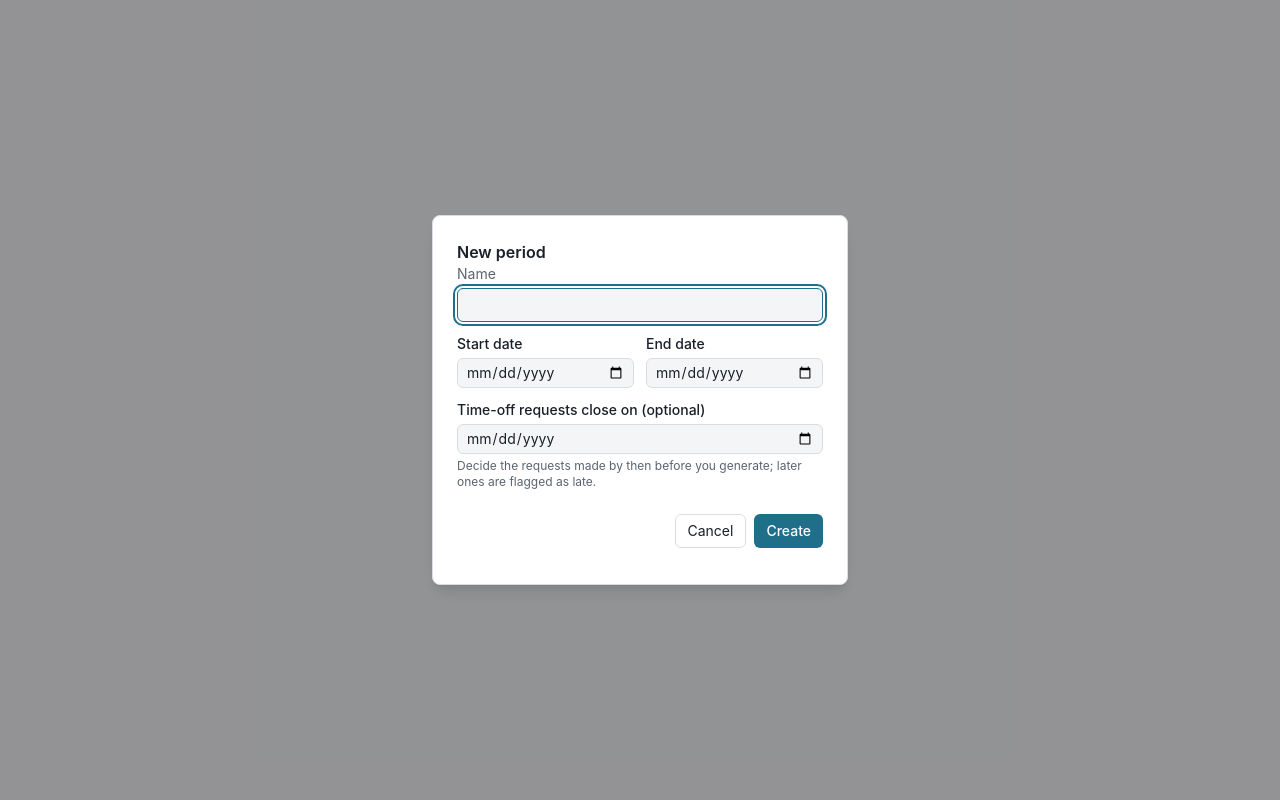
creating a scheduling period › shows the message when main refuses the period
Expected: the form with test id "new-period-form" is shown, [457, 264, 823, 548]
In the field labelled "Name": (640, 305) [457, 288, 823, 322], type "Winter"
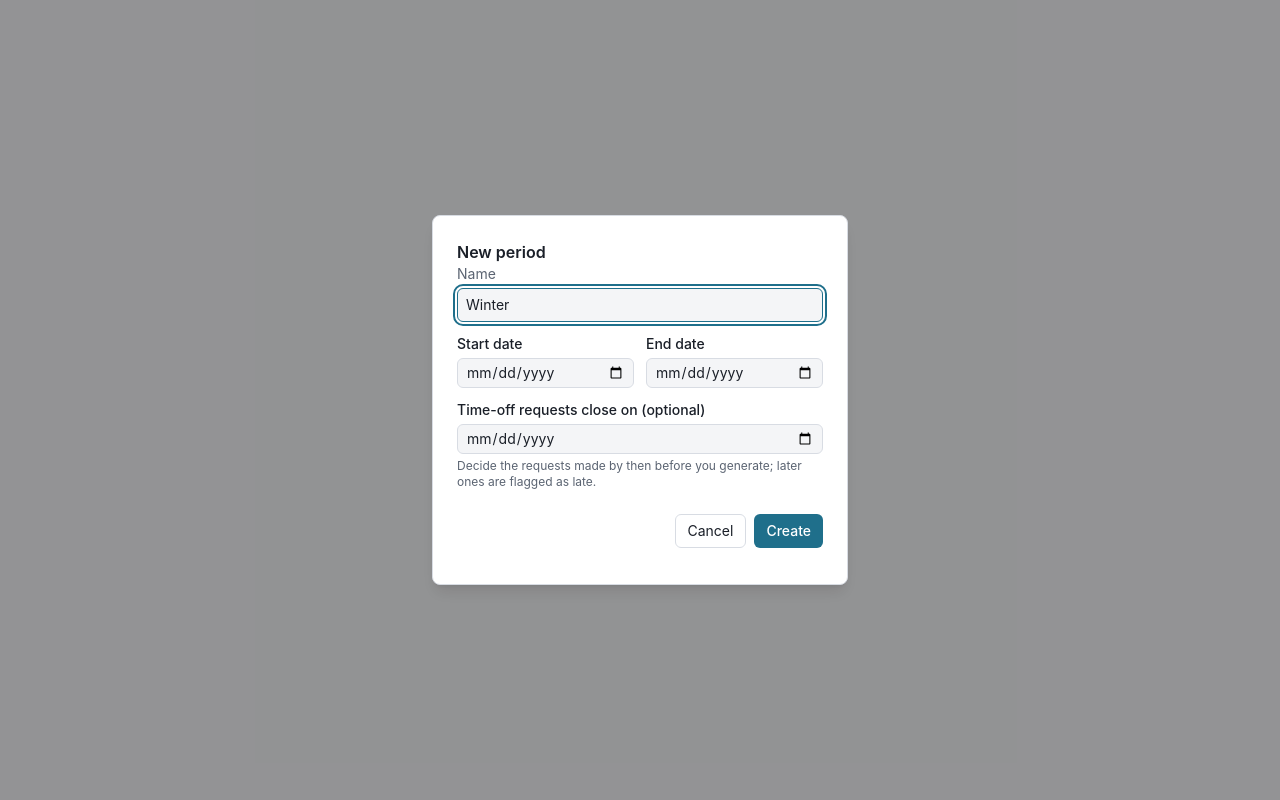
In the date field labelled "Start date": (546, 373) [457, 358, 634, 388], type "2026-12-06"
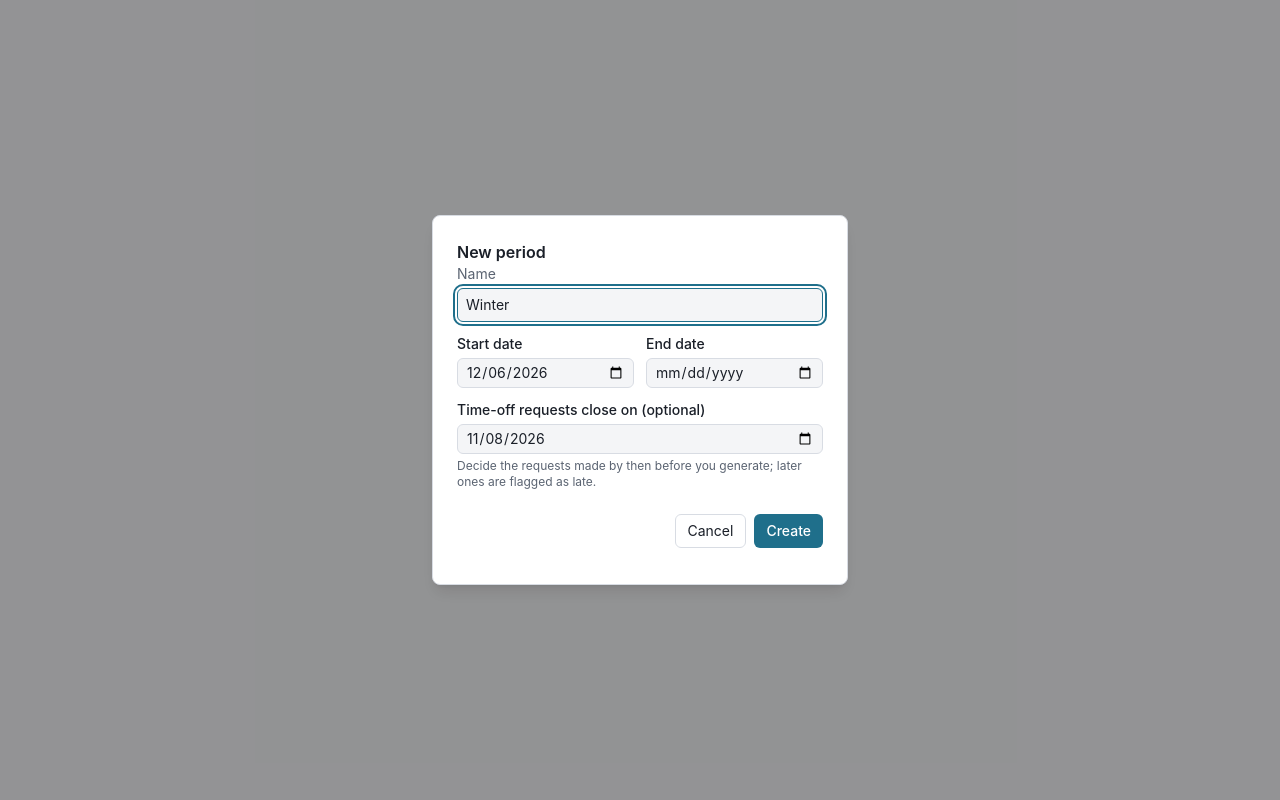
In the date field labelled "End date": (734, 373) [646, 358, 823, 388], type "2027-01-16"
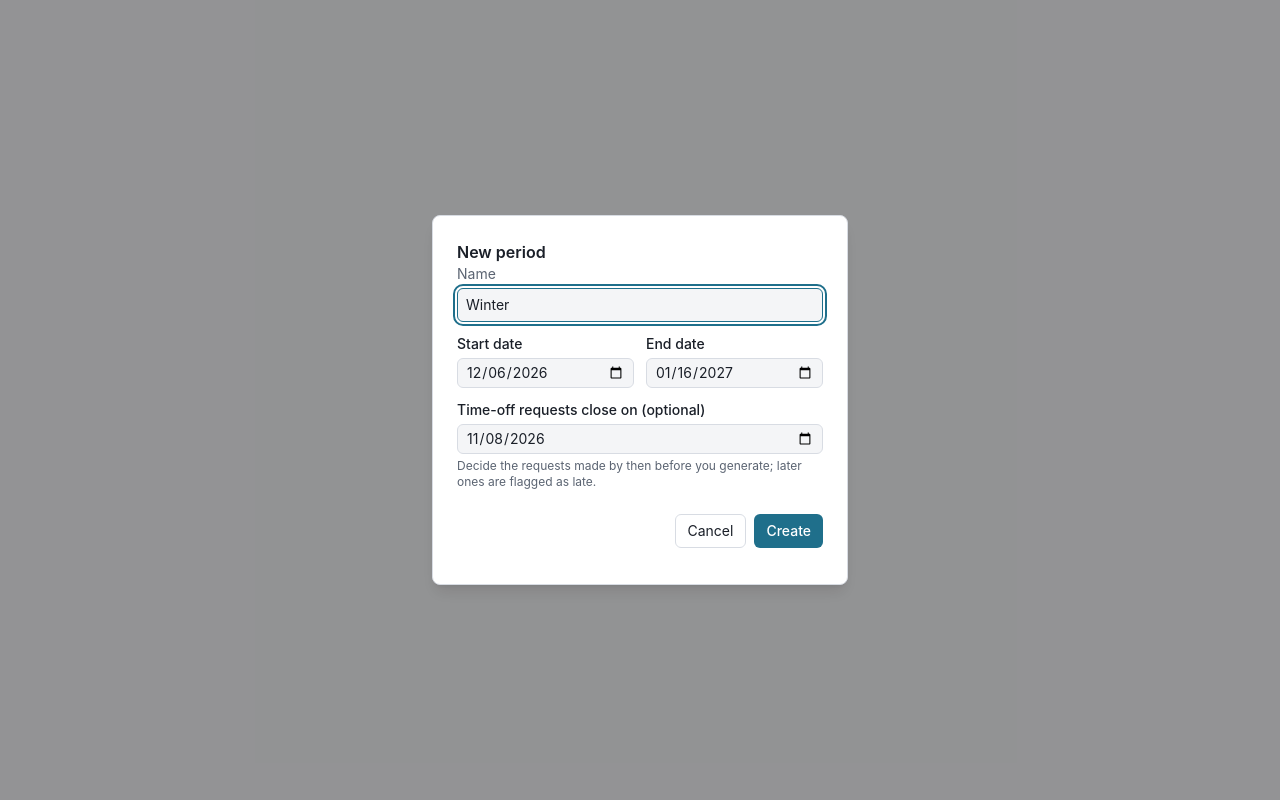
Click the button with test id "new-period-save": (789, 531) [754, 514, 823, 548]
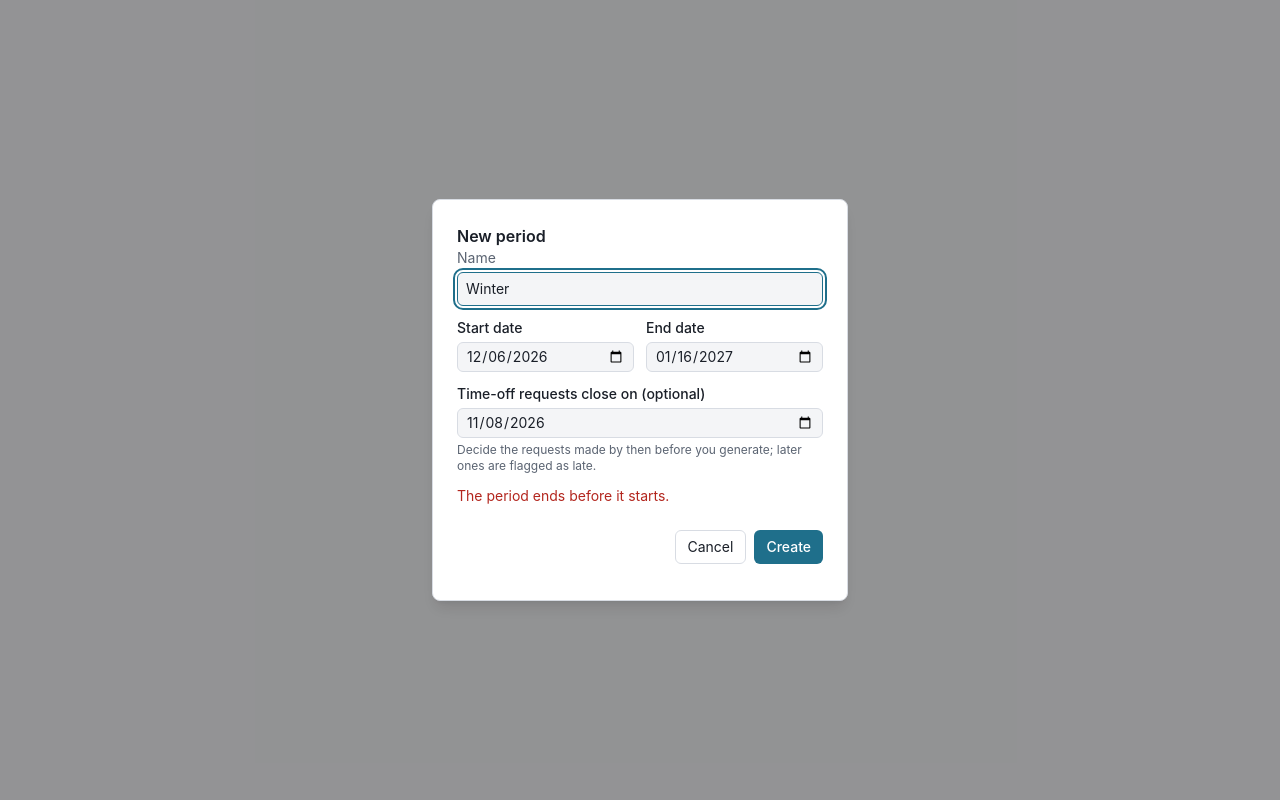
Expected: the message reads "The period ends before it starts.", [457, 487, 669, 504]
